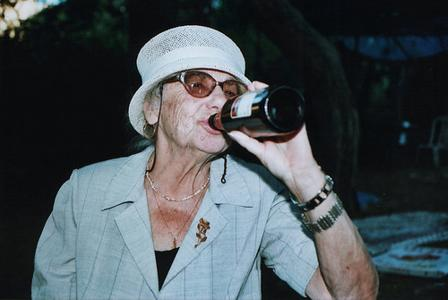person: (32, 24, 381, 300)
